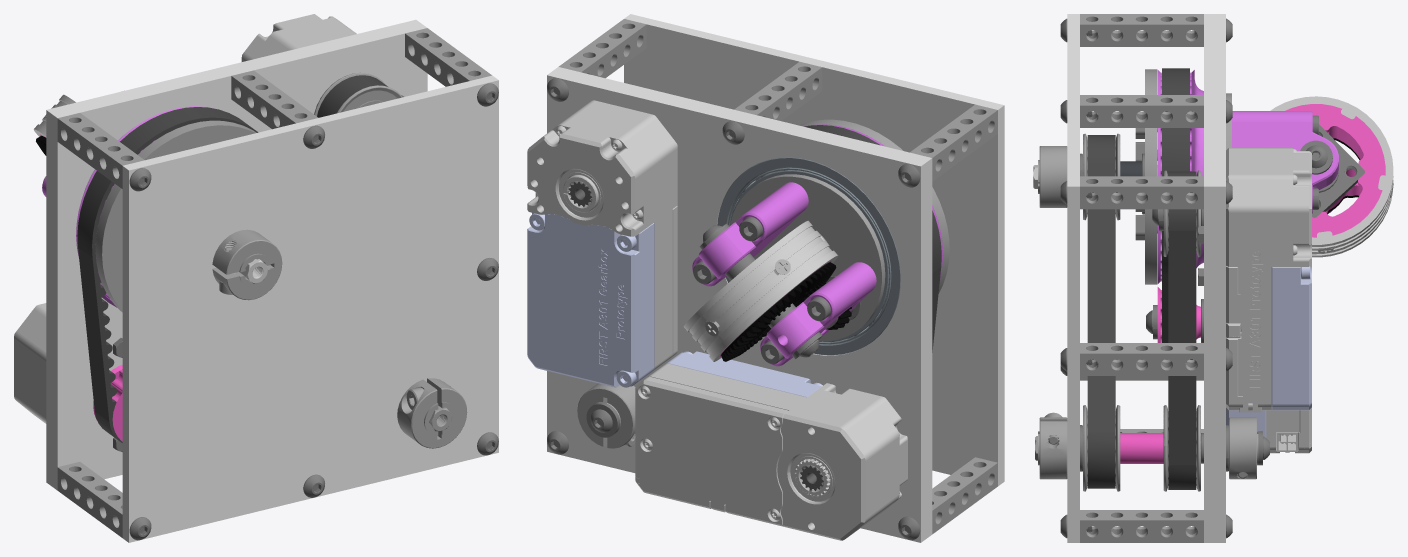
The model's file is PXLSWRV Assembly.glb.
The picture shows the model from 3 angles, left to right: view 1: azimuth 30°, elevation 25°; view 2: azimuth 150°, elevation 25°; view 3: azimuth 270°, elevation 25°; orthographic projection. The views are drawn at different scales.
Parts seen in each view (by area): view 1: empty_148, empty_11, empty_108, empty_88, empty_21, empty_25, empty_59, empty_77, empty_97, empty_78, empty_64, empty_138 (+3 smaller); view 2: empty_11, empty_148, empty_59, empty_137, empty_138, empty_34, empty_112, empty_127, empty_58, empty_84, empty_77, empty_97 (+9 smaller); view 3: empty_138, empty_11, empty_44, empty_96, empty_148, empty_137, empty_129, empty_64, empty_27, empty_77, empty_42, empty_78 (+17 smaller).
Boxes of the visible parts, left/top/right/bottom form: empty_148: left=122, top=75, right=498, bottom=542; empty_11: left=46, top=19, right=427, bottom=490; empty_108: left=77, top=107, right=258, bottom=442; empty_88: left=95, top=120, right=256, bottom=312; empty_21: left=212, top=229, right=282, bottom=300; empty_25: left=397, top=378, right=467, bottom=448; empty_59: left=14, top=303, right=46, bottom=423; empty_77: left=57, top=113, right=144, bottom=188; empty_97: left=57, top=462, right=122, bottom=537; empty_78: left=231, top=70, right=318, bottom=129; empty_64: left=405, top=28, right=491, bottom=86; empty_138: left=241, top=14, right=356, bottom=61; empty_11: left=547, top=67, right=932, bottom=542; empty_148: left=624, top=14, right=1004, bottom=486; empty_59: left=635, top=363, right=907, bottom=540; empty_137: left=527, top=212, right=654, bottom=387; empty_138: left=527, top=100, right=677, bottom=372; empty_34: left=683, top=220, right=838, bottom=361; empty_112: left=730, top=174, right=885, bottom=341; empty_127: left=717, top=157, right=900, bottom=355; empty_58: left=692, top=182, right=808, bottom=286; empty_84: left=760, top=262, right=876, bottom=366; empty_77: left=910, top=104, right=997, bottom=181; empty_97: left=932, top=457, right=997, bottom=534; empty_138: left=1226, top=148, right=1311, bottom=412; empty_11: left=1204, top=14, right=1225, bottom=542; empty_44: left=1087, top=135, right=1115, bottom=488; empty_96: left=1168, top=171, right=1196, bottom=489; empty_148: left=1067, top=14, right=1079, bottom=542; empty_137: left=1271, top=265, right=1311, bottom=410; empty_129: left=1285, top=104, right=1385, bottom=237; empty_64: left=1080, top=176, right=1203, bottom=209; empty_27: left=1080, top=510, right=1203, bottom=542; empty_77: left=1080, top=14, right=1203, bottom=46; empty_42: left=1080, top=343, right=1203, bottom=375; empty_78: left=1080, top=95, right=1203, bottom=127.
Size of the model in its own units: 132 by 127 by 116.
